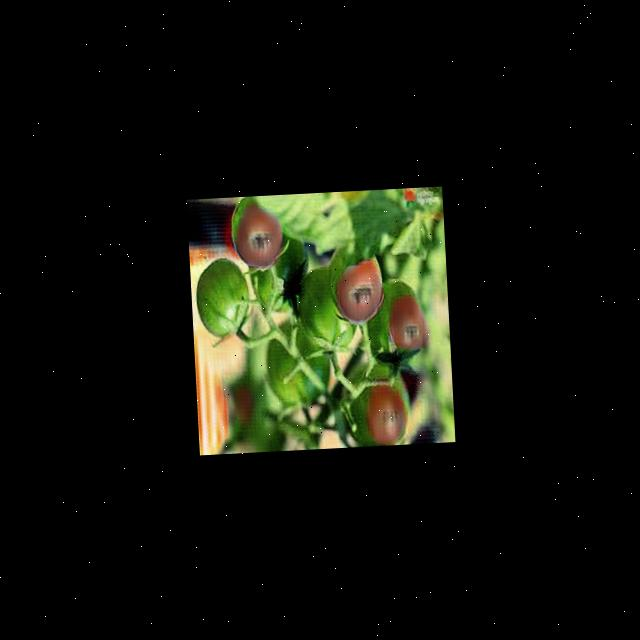tomato: (333, 253, 382, 324), (230, 204, 284, 268), (366, 384, 406, 442), (385, 294, 424, 349)
